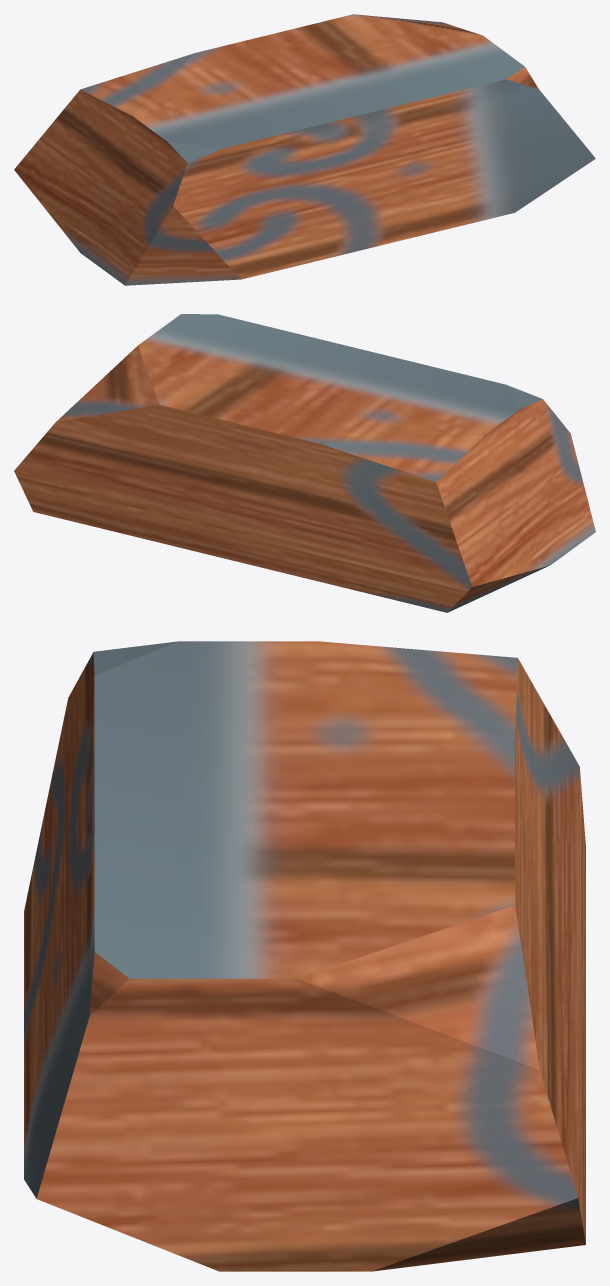
File: Kamen_normal5.fbx
3 renders of one model, top to bottom at view 1: azimuth 30°, elevation 25°; view 2: azimuth 150°, elevation 25°; view 3: azimuth 270°, elevation 25°, orthographic. The views are drawn at different scales.
Parts seen in each view (by area): view 1: Kamen_normal5; view 2: Kamen_normal5; view 3: Kamen_normal5.
Boxes of the visible parts, box(x1,y1,x2,y2) form: Kamen_normal5: box(14, 14, 595, 285); Kamen_normal5: box(14, 314, 595, 612); Kamen_normal5: box(24, 641, 585, 1271).
Bounding box in the file's own units: 17.33 × 4.24 × 9.14.
